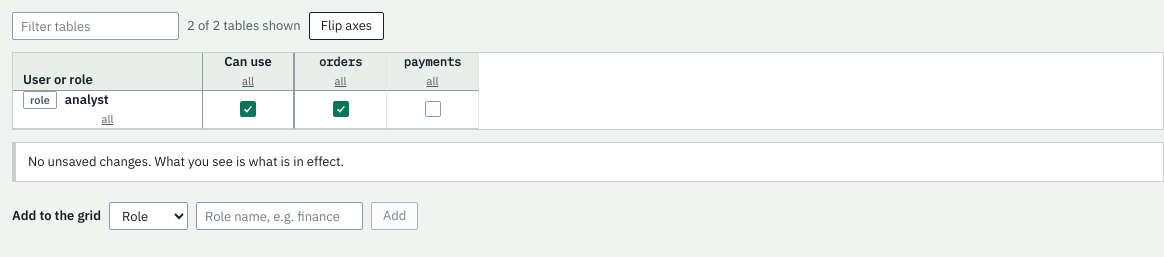
table permissions grid › shows why a save failed and keeps the staged changes
Click the checkbox named "analyst can read payments". click: (432, 109)
box: [424, 101, 440, 117]
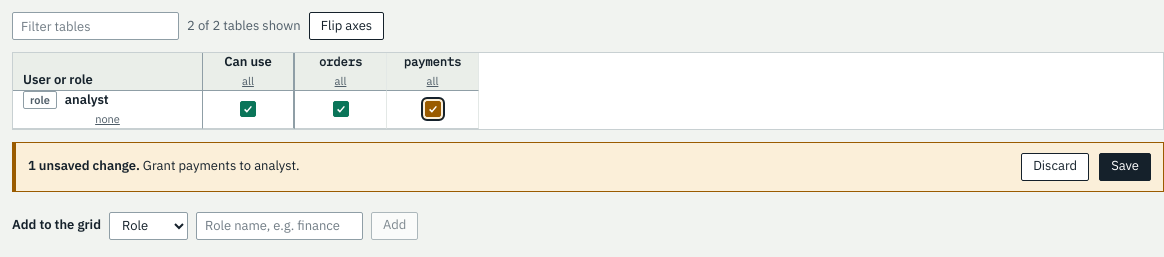
Click the button "Save". click: (1125, 167)
box: [1099, 153, 1151, 181]
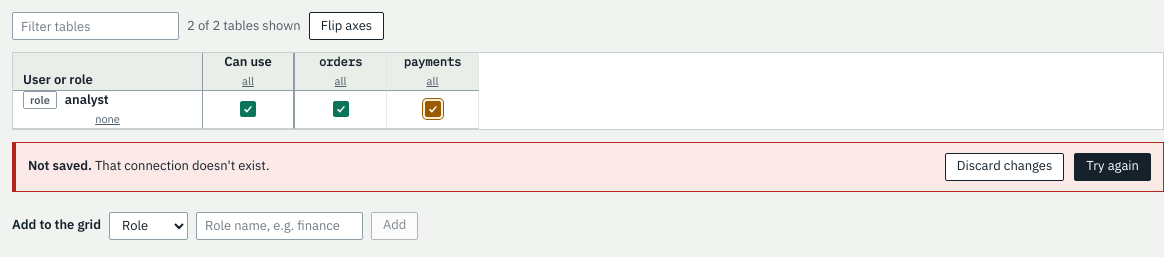
Result: the checkbox named "analyst can read payments" is checked at [424, 101, 440, 117]
Result: the text "Not saved." is shown at [28, 157, 92, 174]
